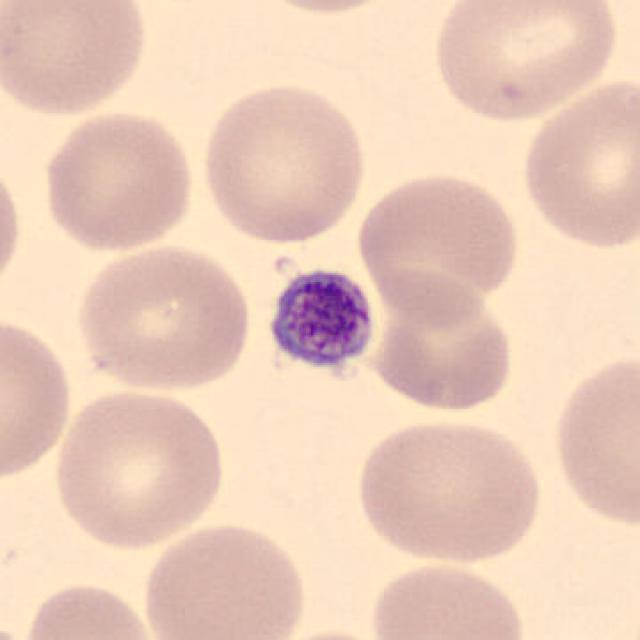Platelets: (258, 259, 378, 386)
RBC: (46, 384, 230, 552), (350, 412, 548, 568), (196, 76, 372, 247), (71, 238, 256, 395), (352, 166, 524, 330), (427, 0, 624, 125), (37, 106, 199, 256), (361, 270, 517, 418), (516, 74, 638, 254), (139, 518, 313, 640), (0, 0, 155, 122), (546, 348, 638, 532), (364, 557, 532, 640), (0, 308, 76, 486), (18, 578, 160, 640), (0, 150, 27, 303), (240, 0, 411, 18)
